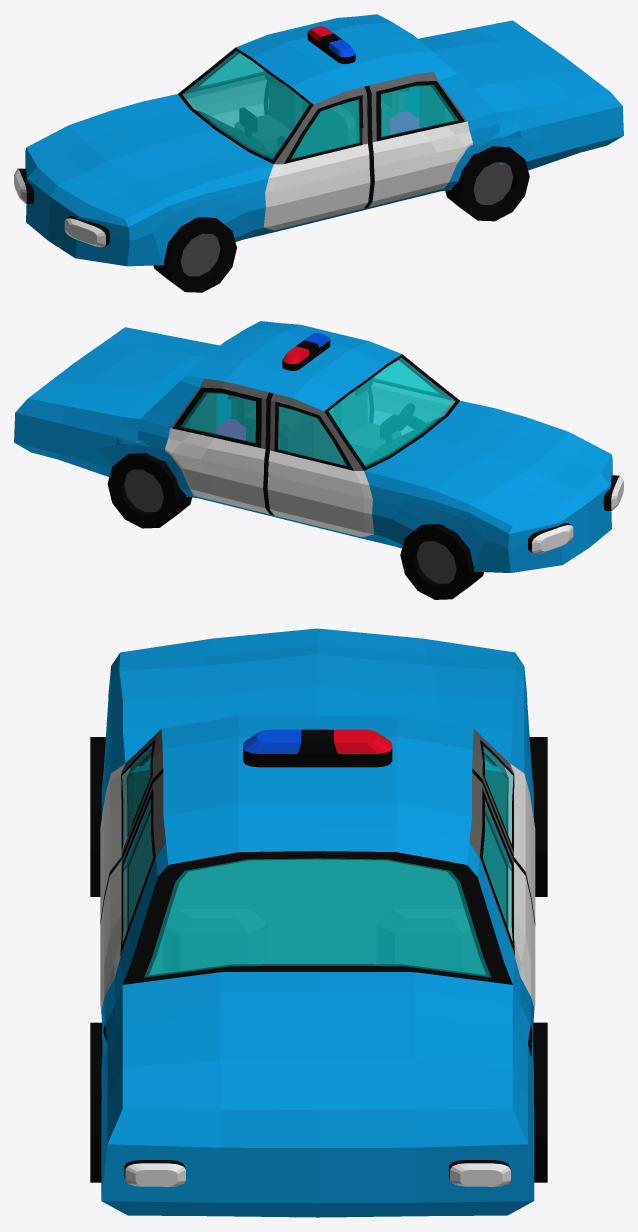
Rendered from PoliceCar.fbx.
3 renders of one model, top to bottom at view 1: azimuth 30°, elevation 25°; view 2: azimuth 150°, elevation 25°; view 3: azimuth 270°, elevation 25°, orthographic. The views are drawn at different scales.
Visible parts, largest first — view 1: Car, Trunk, FDL, BDL, WheelBL, WheelFL, FDR, ChairR, Headlights, ChairL, CarCage, SirionLight (+3 smaller); view 2: Car, Trunk, FDR, BDR, WheelBR, WheelFR, FDL, ChairL, Headlights, ChairR, CarCage, SirionLight (+4 smaller); view 3: Car, Trunk, CarCage, BDL, BDR, ChairL.001, ChairR.001, SirionLight, FDR, FDL, BackLights, WheelBR (+4 smaller).
Boxes of the visible parts, x1,y1,x2,y2 form: Car: [25, 14, 623, 266]; Trunk: [418, 20, 622, 135]; FDL: [263, 86, 370, 230]; BDL: [368, 72, 472, 207]; WheelBL: [445, 146, 529, 221]; WheelFL: [153, 217, 236, 292]; FDR: [182, 51, 266, 127]; ChairR: [235, 82, 301, 152]; Headlights: [14, 168, 109, 247]; ChairL: [322, 106, 355, 151]; CarCage: [295, 99, 362, 157]; SirionLight: [307, 26, 355, 63]; Car: [14, 321, 612, 572]; Trunk: [15, 327, 219, 442]; FDR: [267, 393, 374, 536]; BDR: [165, 378, 269, 514]; WheelBR: [107, 453, 191, 528]; WheelFR: [400, 524, 483, 599]; FDL: [371, 358, 455, 435]; ChairL: [333, 390, 400, 465]; Headlights: [528, 475, 623, 553]; ChairR: [280, 414, 313, 457]; CarCage: [278, 406, 367, 464]; SirionLight: [282, 333, 330, 370]; Car: [100, 628, 535, 1217]; Trunk: [105, 972, 530, 1147]; CarCage: [123, 801, 511, 974]; BDL: [100, 773, 165, 1010]; BDR: [469, 773, 535, 1009]; ChairL.001: [162, 909, 265, 972]; ChairR.001: [377, 909, 480, 974]; SirionLight: [243, 729, 392, 767]; FDR: [472, 729, 535, 921]; FDL: [100, 729, 162, 920]; BackLights: [124, 1160, 510, 1186]; WheelBR: [528, 1022, 547, 1182].
Bounding box in the file's own units: 330 × 99.32 × 123.
